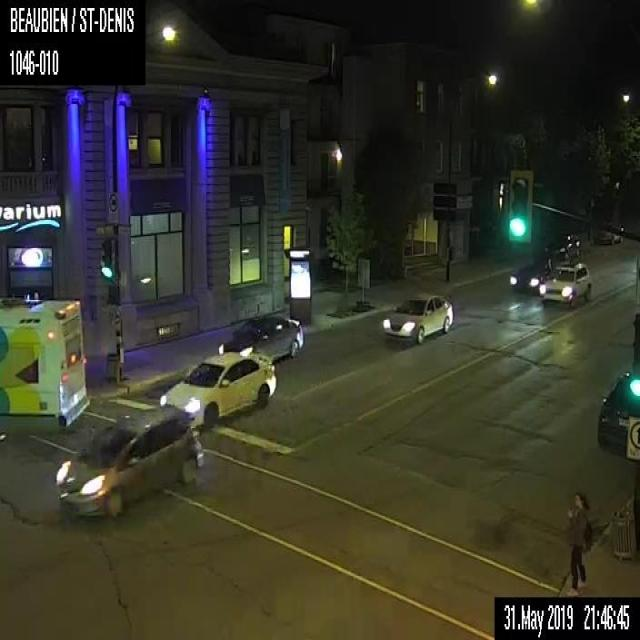bus: (0, 294, 89, 429)
pedestrian: (564, 487, 596, 596)
vehicle: (54, 404, 202, 519), (158, 349, 276, 426), (509, 229, 581, 295), (218, 314, 304, 361), (381, 292, 453, 344), (596, 368, 639, 451), (538, 260, 592, 308), (594, 221, 626, 244)
